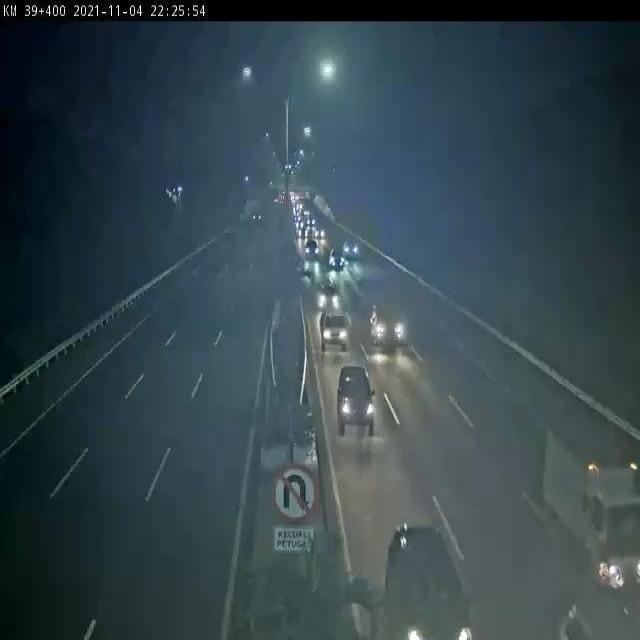car: (334, 361, 376, 435), (370, 299, 405, 348), (316, 308, 350, 351), (316, 282, 343, 314), (328, 244, 347, 271)
truck-s-: (539, 421, 640, 592)
